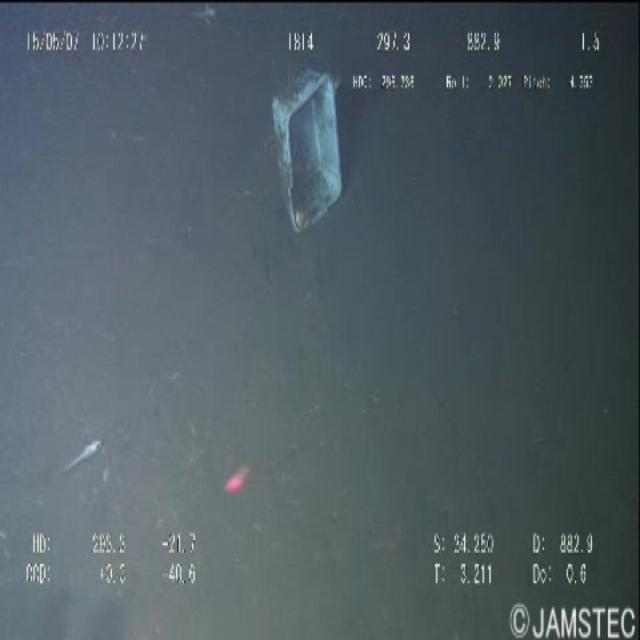Cutlery: (258, 69, 354, 242)
